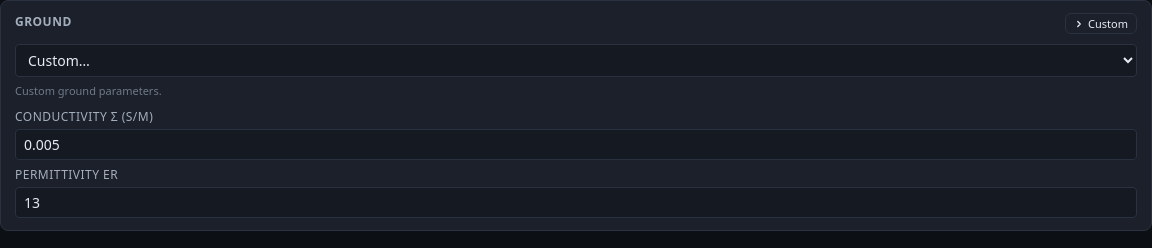
Test: GroundControl › resets the sigma field to the store value on blur
Replace the text in the number field labelled "Conductivity σ (S/m)" with "0.02": (576, 144) [15,129,1137,160]
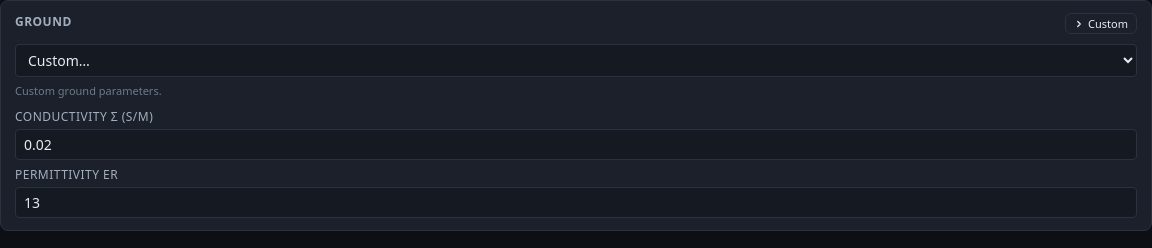
Leave the number field labelled "Conductivity σ (S/m)", box [15,129,1137,160]
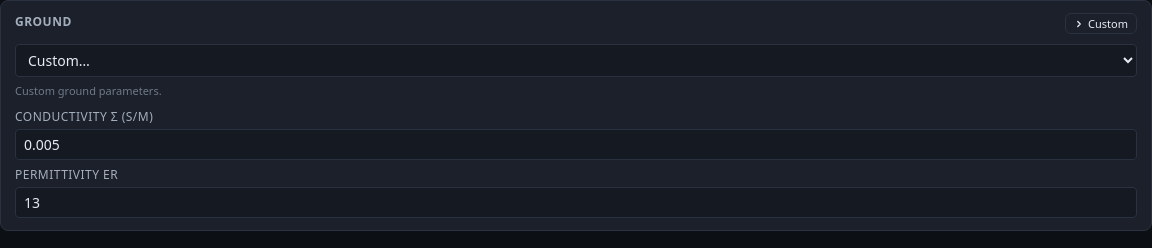
Check: the number field labelled "Conductivity σ (S/m)" holds "0.005", box [15,129,1137,160]
